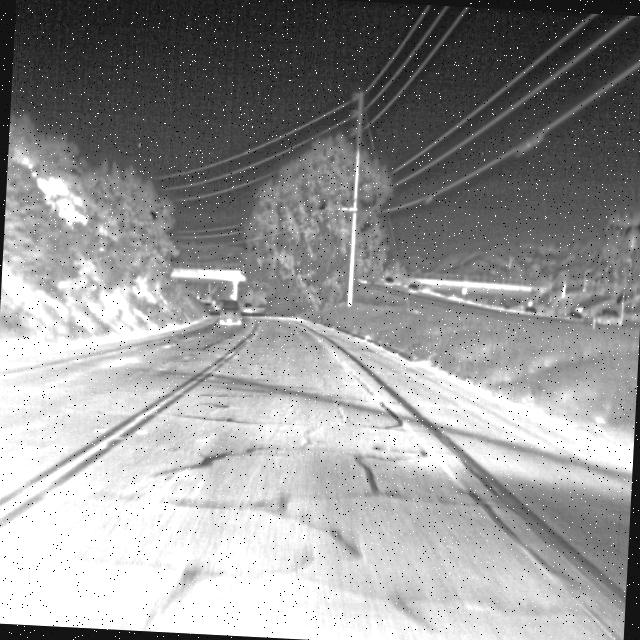Vehicle: (218, 298, 243, 328)
